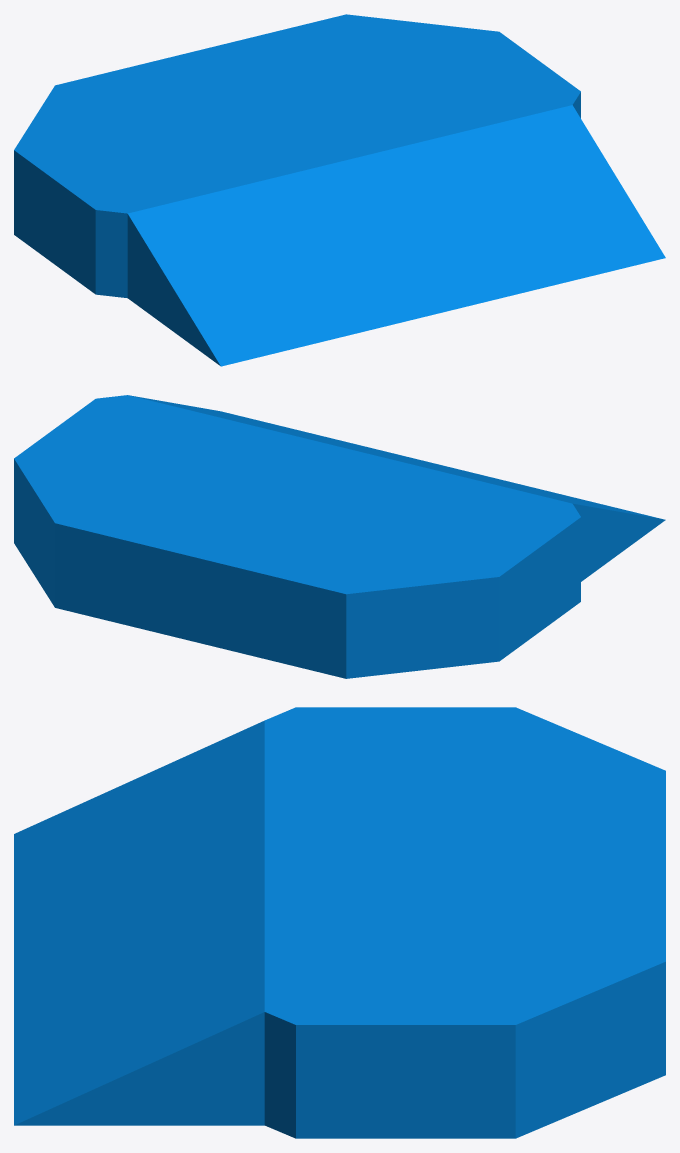
Rendered from goal.fbx.
The picture shows the model from 3 angles, top to bottom: view 1: azimuth 30°, elevation 25°; view 2: azimuth 150°, elevation 25°; view 3: azimuth 270°, elevation 25°; orthographic projection. The views are drawn at different scales.
Parts seen in each view (by area): view 1: Gadget; view 2: Gadget; view 3: Gadget.
Boxes of the visible parts, x1=… form: Gadget: x1=14, y1=14, x2=665, y2=366; Gadget: x1=14, y1=395, x2=665, y2=678; Gadget: x1=14, y1=707, x2=665, y2=1138.
Size of the model in its own units: 600 by 100 by 520.
